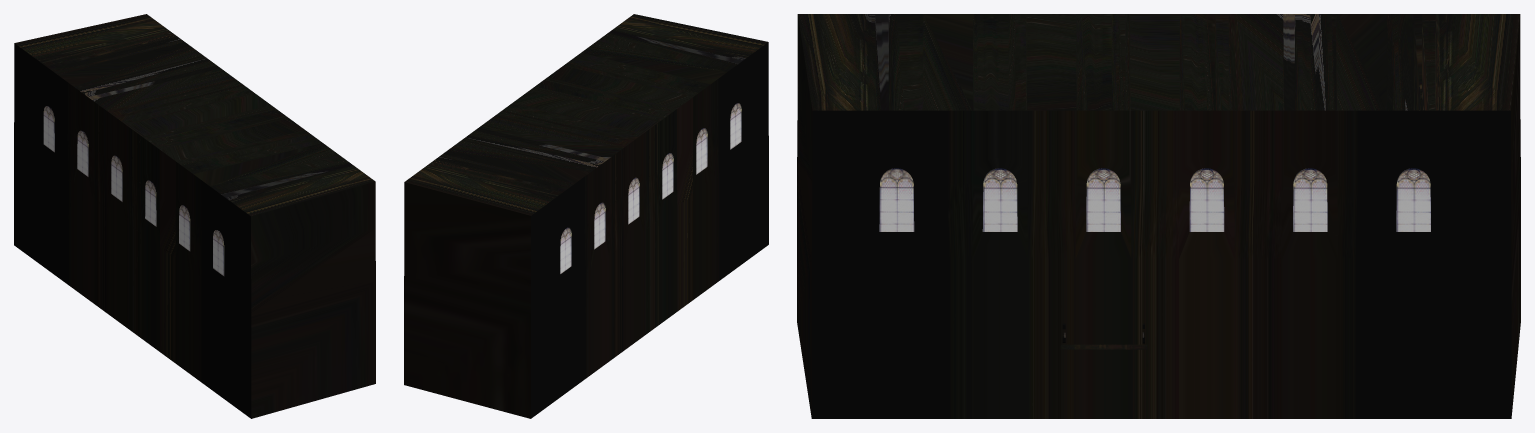
The model's file is sistinechapel.glb.
3 renders of one model, left to right at view 1: azimuth 30°, elevation 25°; view 2: azimuth 150°, elevation 25°; view 3: azimuth 270°, elevation 25°, orthographic. The views are drawn at different scales.
Parts seen in each view (by area): view 1: Object24_scianabok_0_4, Object048_windopw_0_256; view 2: Object24_scianabok_0_4, Object048_windopw_0_256; view 3: Object24_scianabok_0_4, Object049_windopw_0_258.
Boxes of the visible parts, bbox=[...] form: Object24_scianabok_0_4: bbox=[14, 14, 375, 418]; Object048_windopw_0_256: bbox=[43, 106, 224, 276]; Object24_scianabok_0_4: bbox=[404, 14, 768, 418]; Object048_windopw_0_256: bbox=[560, 103, 741, 273]; Object24_scianabok_0_4: bbox=[797, 14, 1520, 418]; Object049_windopw_0_258: bbox=[879, 168, 1430, 231].
Bounding box in the file's own units: 7.65 × 10.88 × 23.11.
21 materials, 20 textured.
